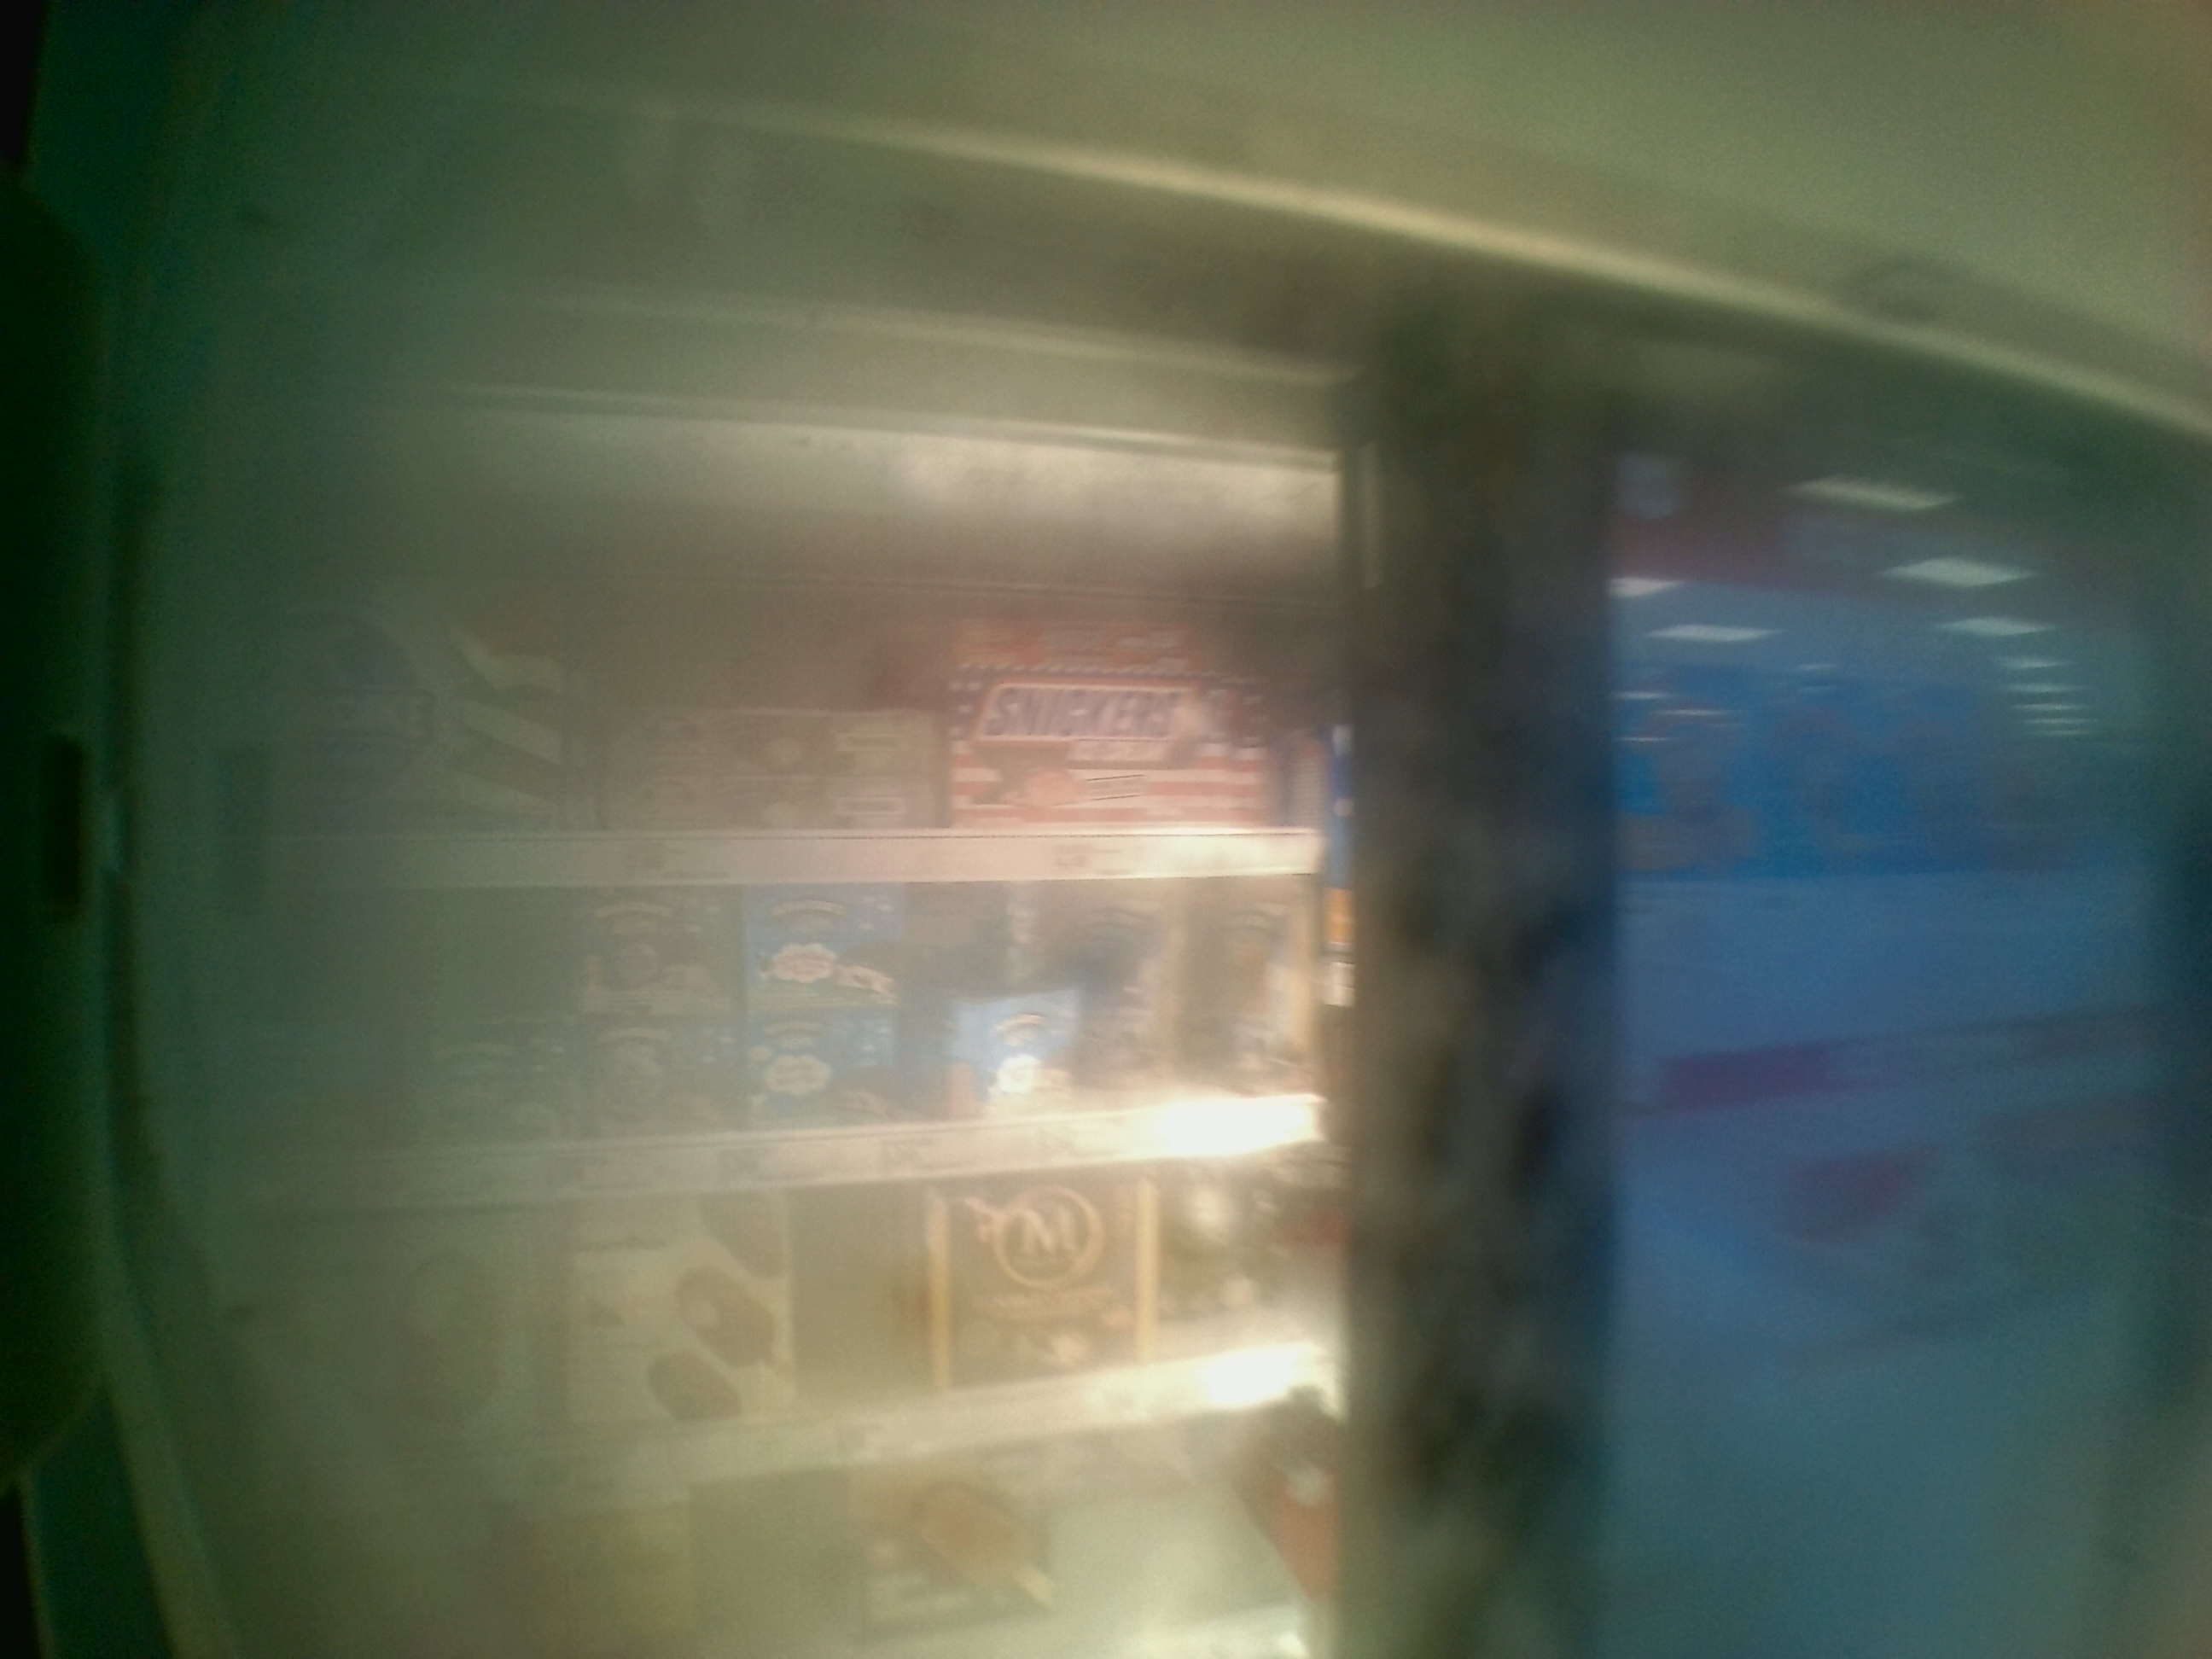shelf: (246, 495, 1320, 884), (235, 892, 1355, 1230)
